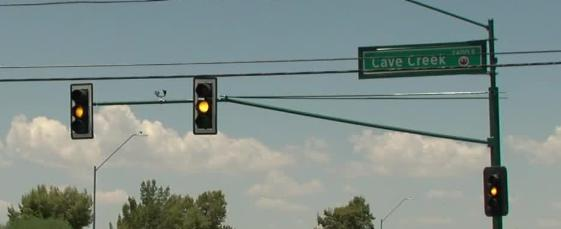yellow_light: (193, 77, 218, 135), (70, 83, 94, 140), (483, 167, 509, 216)
